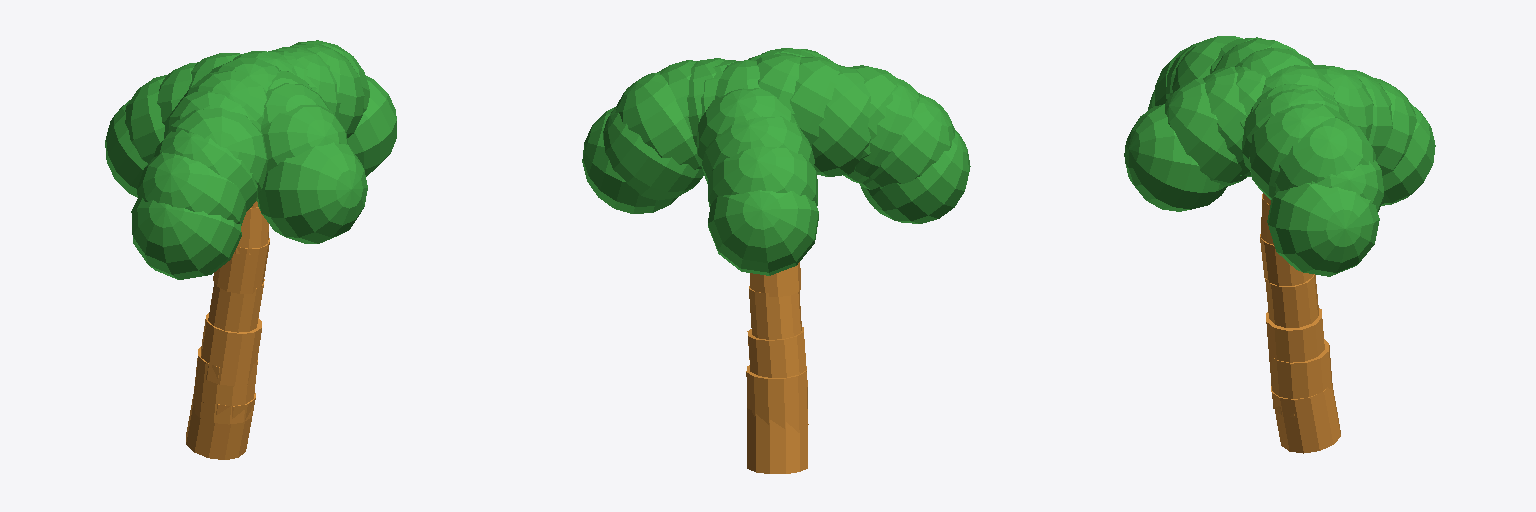
The model's file is model-triangulated.obj.
3 renders of one model, left to right at view 1: azimuth 30°, elevation 25°; view 2: azimuth 150°, elevation 25°; view 3: azimuth 270°, elevation 25°, orthographic.
Parts seen in each view (by area): view 1: group[number redacted], group[number redacted], group[number redacted], group[number redacted], group[number redacted], group[number redacted], group[number redacted], group[number redacted], group[number redacted], group[number redacted], group[number redacted], group[number redacted] (+13 smaller); view 2: group[number redacted], group[number redacted], group[number redacted], group[number redacted], group[number redacted], group[number redacted], group[number redacted], group[number redacted], group[number redacted], group[number redacted], group[number redacted], group[number redacted] (+11 smaller); view 3: group[number redacted], group[number redacted], group[number redacted], group[number redacted], group[number redacted], group[number redacted], group[number redacted], group[number redacted], group[number redacted], group[number redacted], group[number redacted], group[number redacted] (+10 smaller).
Part boxes in pixels (bbox=[...]): group[number redacted]: bbox=[257, 142, 367, 243]; group[number redacted]: bbox=[131, 197, 241, 279]; group[number redacted]: bbox=[137, 152, 245, 225]; group[number redacted]: bbox=[261, 104, 348, 173]; group[number redacted]: bbox=[166, 108, 267, 193]; group[number redacted]: bbox=[201, 313, 261, 385]; group[number redacted]: bbox=[348, 76, 396, 176]; group[number redacted]: bbox=[154, 130, 257, 211]; group[number redacted]: bbox=[186, 393, 255, 459]; group[number redacted]: bbox=[192, 347, 257, 424]; group[number redacted]: bbox=[125, 75, 166, 163]; group[number redacted]: bbox=[291, 43, 364, 137]; group[number redacted]: bbox=[708, 190, 818, 275]; group[number redacted]: bbox=[861, 128, 970, 223]; group[number redacted]: bbox=[812, 65, 870, 176]; group[number redacted]: bbox=[615, 72, 701, 169]; group[number redacted]: bbox=[708, 146, 817, 206]; group[number redacted]: bbox=[603, 106, 703, 200]; group[number redacted]: bbox=[859, 93, 954, 189]; group[number redacted]: bbox=[702, 116, 814, 183]; group[number redacted]: bbox=[747, 408, 807, 473]; group[number redacted]: bbox=[582, 107, 677, 213]; group[number redacted]: bbox=[746, 365, 808, 432]; group[number redacted]: bbox=[696, 88, 797, 168]; group[number redacted]: bbox=[1267, 183, 1379, 276]; group[number redacted]: bbox=[1124, 104, 1227, 211]; group[number redacted]: bbox=[1275, 117, 1376, 192]; group[number redacted]: bbox=[1165, 77, 1246, 185]; group[number redacted]: bbox=[1248, 103, 1343, 199]; group[number redacted]: bbox=[1271, 386, 1340, 453]; group[number redacted]: bbox=[1381, 104, 1435, 205]; group[number redacted]: bbox=[1203, 67, 1251, 176]; group[number redacted]: bbox=[1270, 339, 1332, 417]; group[number redacted]: bbox=[1265, 274, 1318, 327]; group[number redacted]: bbox=[1266, 308, 1324, 369]; group[number redacted]: bbox=[1313, 65, 1373, 140].
Bounding box in the file's own units: 7.17 × 8.7 × 6.19.